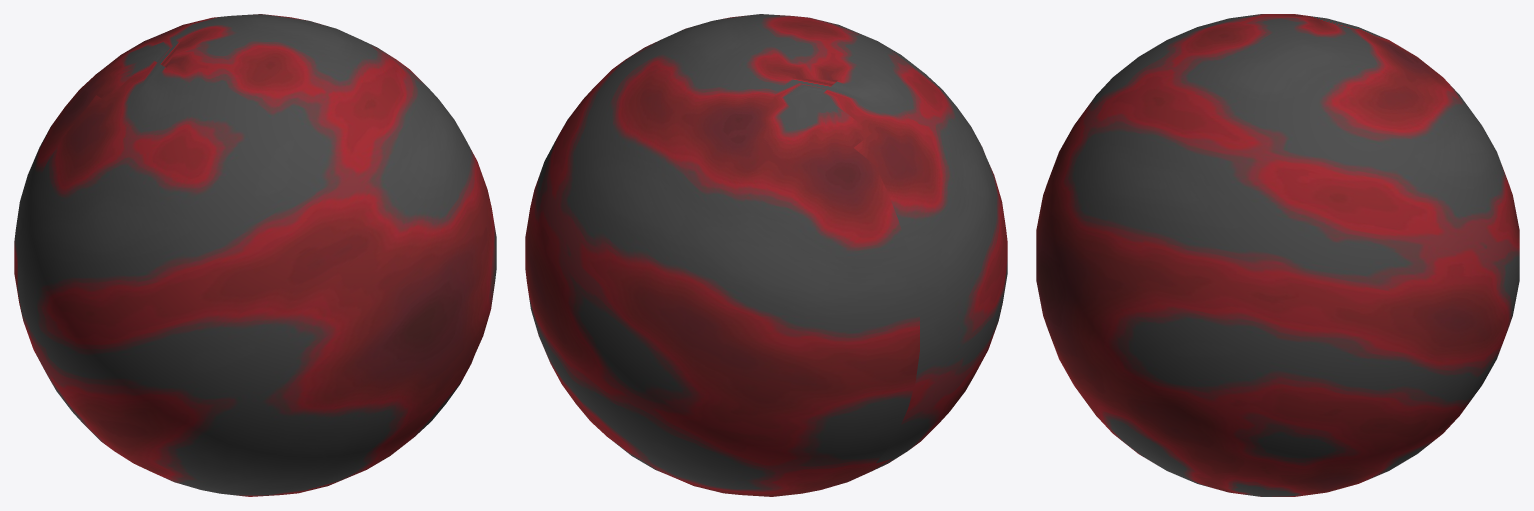
The model's file is GlobeDeneme2.fbx.
The picture shows the model from 3 angles, left to right: view 1: azimuth 30°, elevation 25°; view 2: azimuth 150°, elevation 25°; view 3: azimuth 270°, elevation 25°; orthographic projection.
Parts seen in each view (by area): view 1: Globe; view 2: Globe; view 3: Globe.
Part boxes in pixels (left/top/right/bottom): Globe: left=14, top=14, right=496, bottom=496; Globe: left=525, top=14, right=1007, bottom=496; Globe: left=1036, top=14, right=1519, bottom=496.
Size of the model in its own units: 344 by 344 by 344.
1 material, 1 textured.
